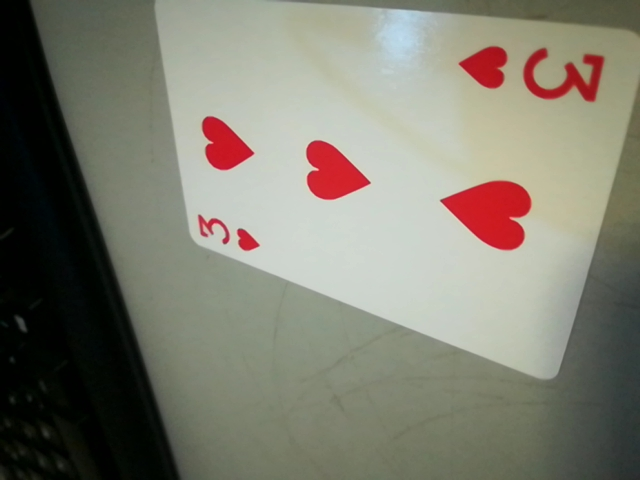hx 3: (464, 36, 620, 110)
